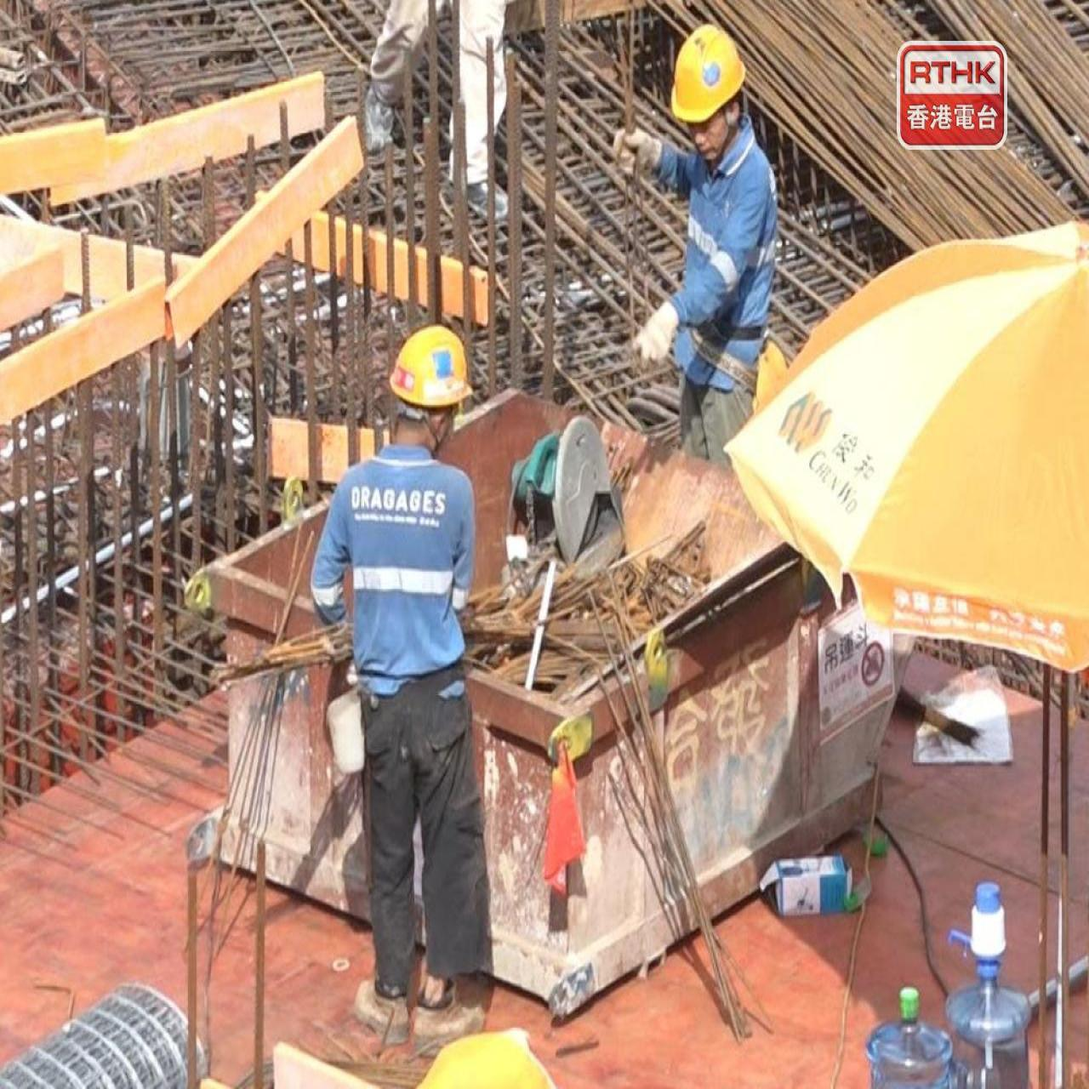NO_Safety_Vest: (337, 450, 485, 697), (675, 144, 776, 344)
Person: (294, 307, 540, 1043), (593, 2, 797, 515)
